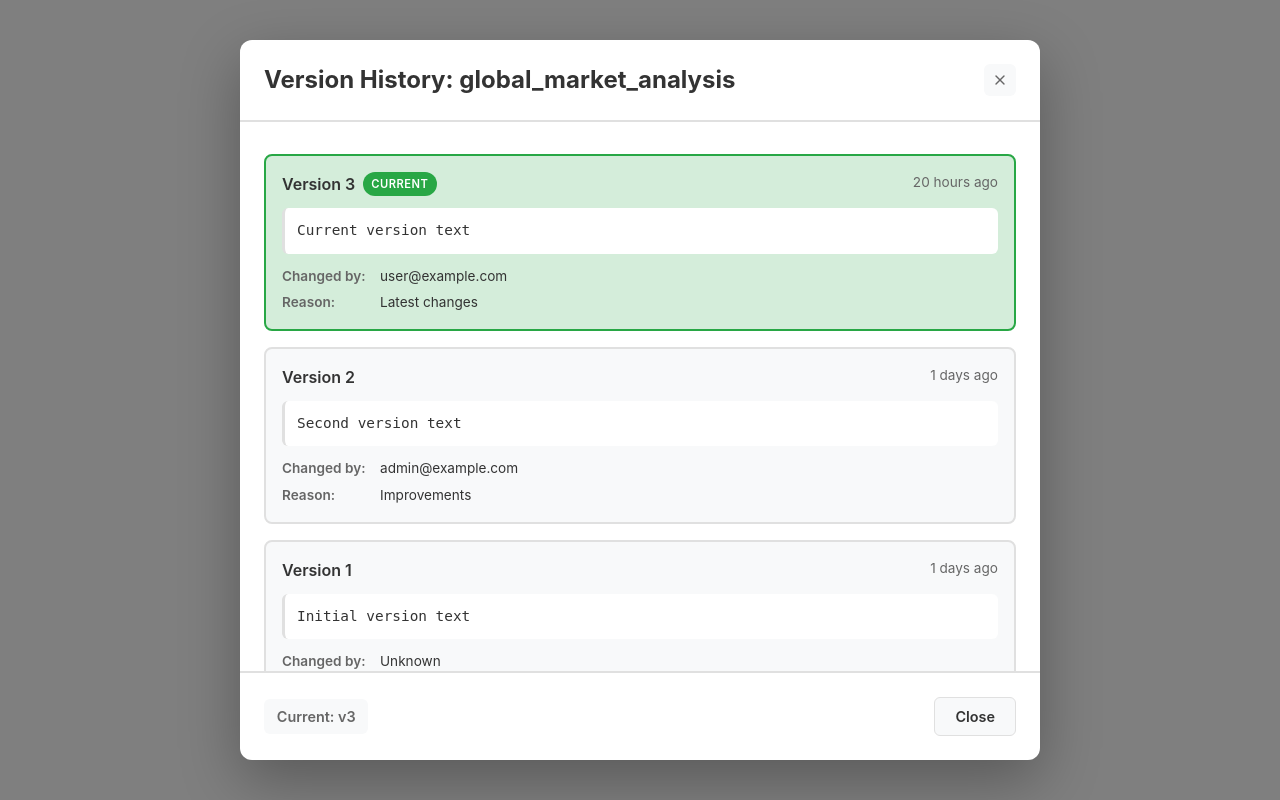
Test case: PromptVersionHistory › Restore Functionality › should show confirmation modal when restore button clicked
The image size is (1280, 800).
Expected: the heading "Version 2" is shown, [282,365,355,389]
Click the 2nd list item at (640, 435), box [264,347,1016,524]
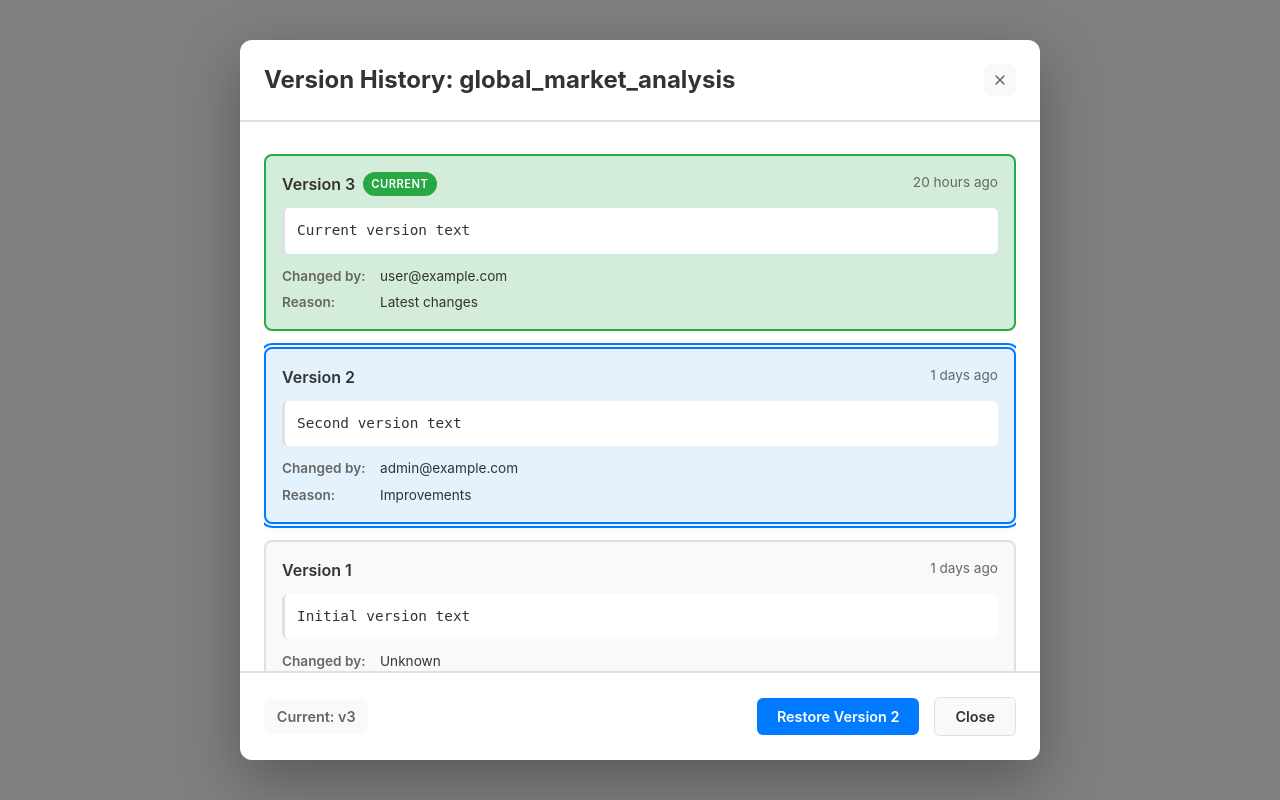
Click the button "Restore Version 2" at (838, 716), box [757,698,920,735]
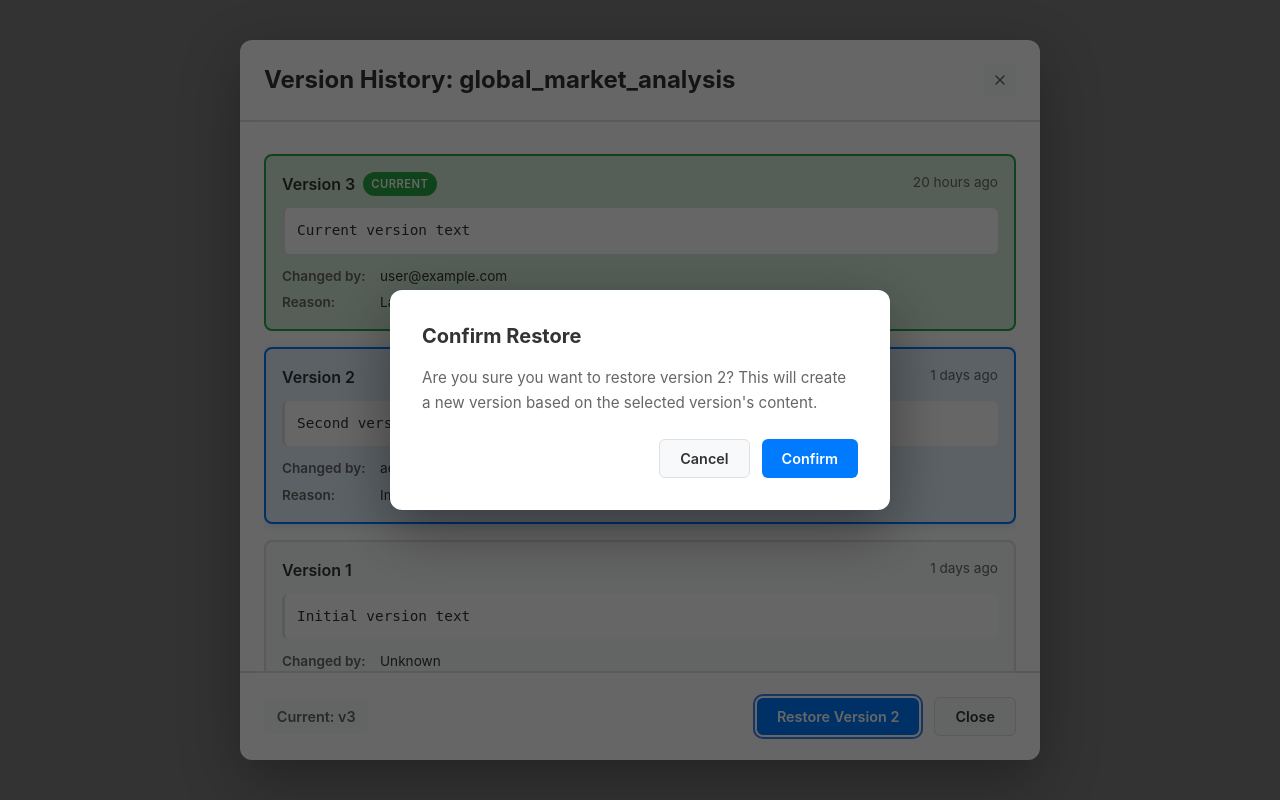
Result: the heading "Confirm Restore" is shown at [422,324,581,348]
Result: the text "Are you sure you want to restore version 2" is shown at [422,366,858,415]
